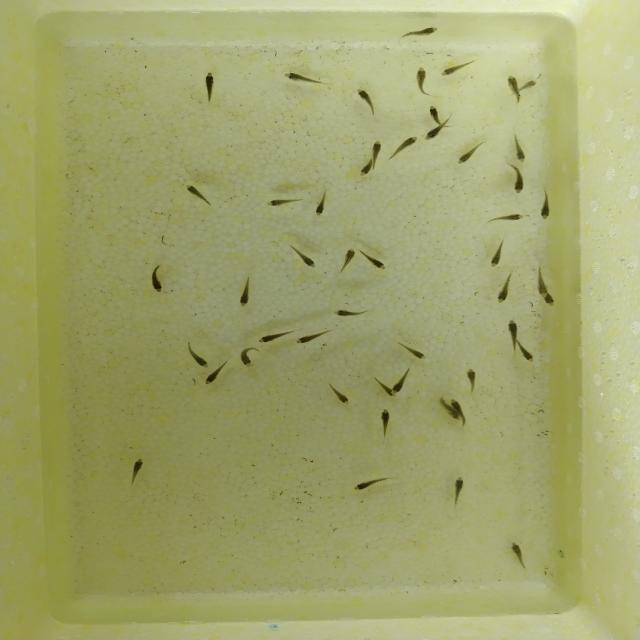fingerling: (341, 472, 386, 500), (476, 244, 514, 276), (118, 452, 162, 478), (444, 465, 472, 503), (398, 23, 449, 42), (271, 66, 319, 86), (188, 71, 230, 93), (230, 280, 256, 315), (449, 144, 486, 168), (496, 205, 528, 231), (363, 252, 397, 276), (505, 169, 533, 198), (330, 244, 368, 264), (399, 343, 437, 363), (230, 350, 264, 372), (193, 368, 230, 388), (492, 73, 523, 96), (409, 64, 432, 94), (488, 282, 518, 305), (294, 328, 333, 344), (255, 328, 286, 348), (182, 179, 206, 204), (460, 366, 484, 391), (182, 350, 217, 367), (372, 406, 398, 428), (513, 346, 544, 364), (353, 84, 376, 108), (504, 540, 530, 561), (394, 133, 424, 151), (530, 278, 554, 300), (440, 59, 464, 80), (262, 197, 300, 210), (327, 388, 354, 406), (148, 275, 170, 297), (534, 199, 555, 222), (509, 140, 529, 164), (309, 199, 332, 219), (386, 375, 410, 394), (378, 374, 394, 402), (424, 105, 446, 124), (506, 314, 521, 341), (330, 307, 363, 319), (369, 136, 384, 162), (295, 252, 319, 268), (542, 289, 558, 312), (517, 79, 545, 92), (426, 125, 442, 146), (358, 158, 374, 179), (446, 410, 464, 421), (450, 398, 462, 412)
